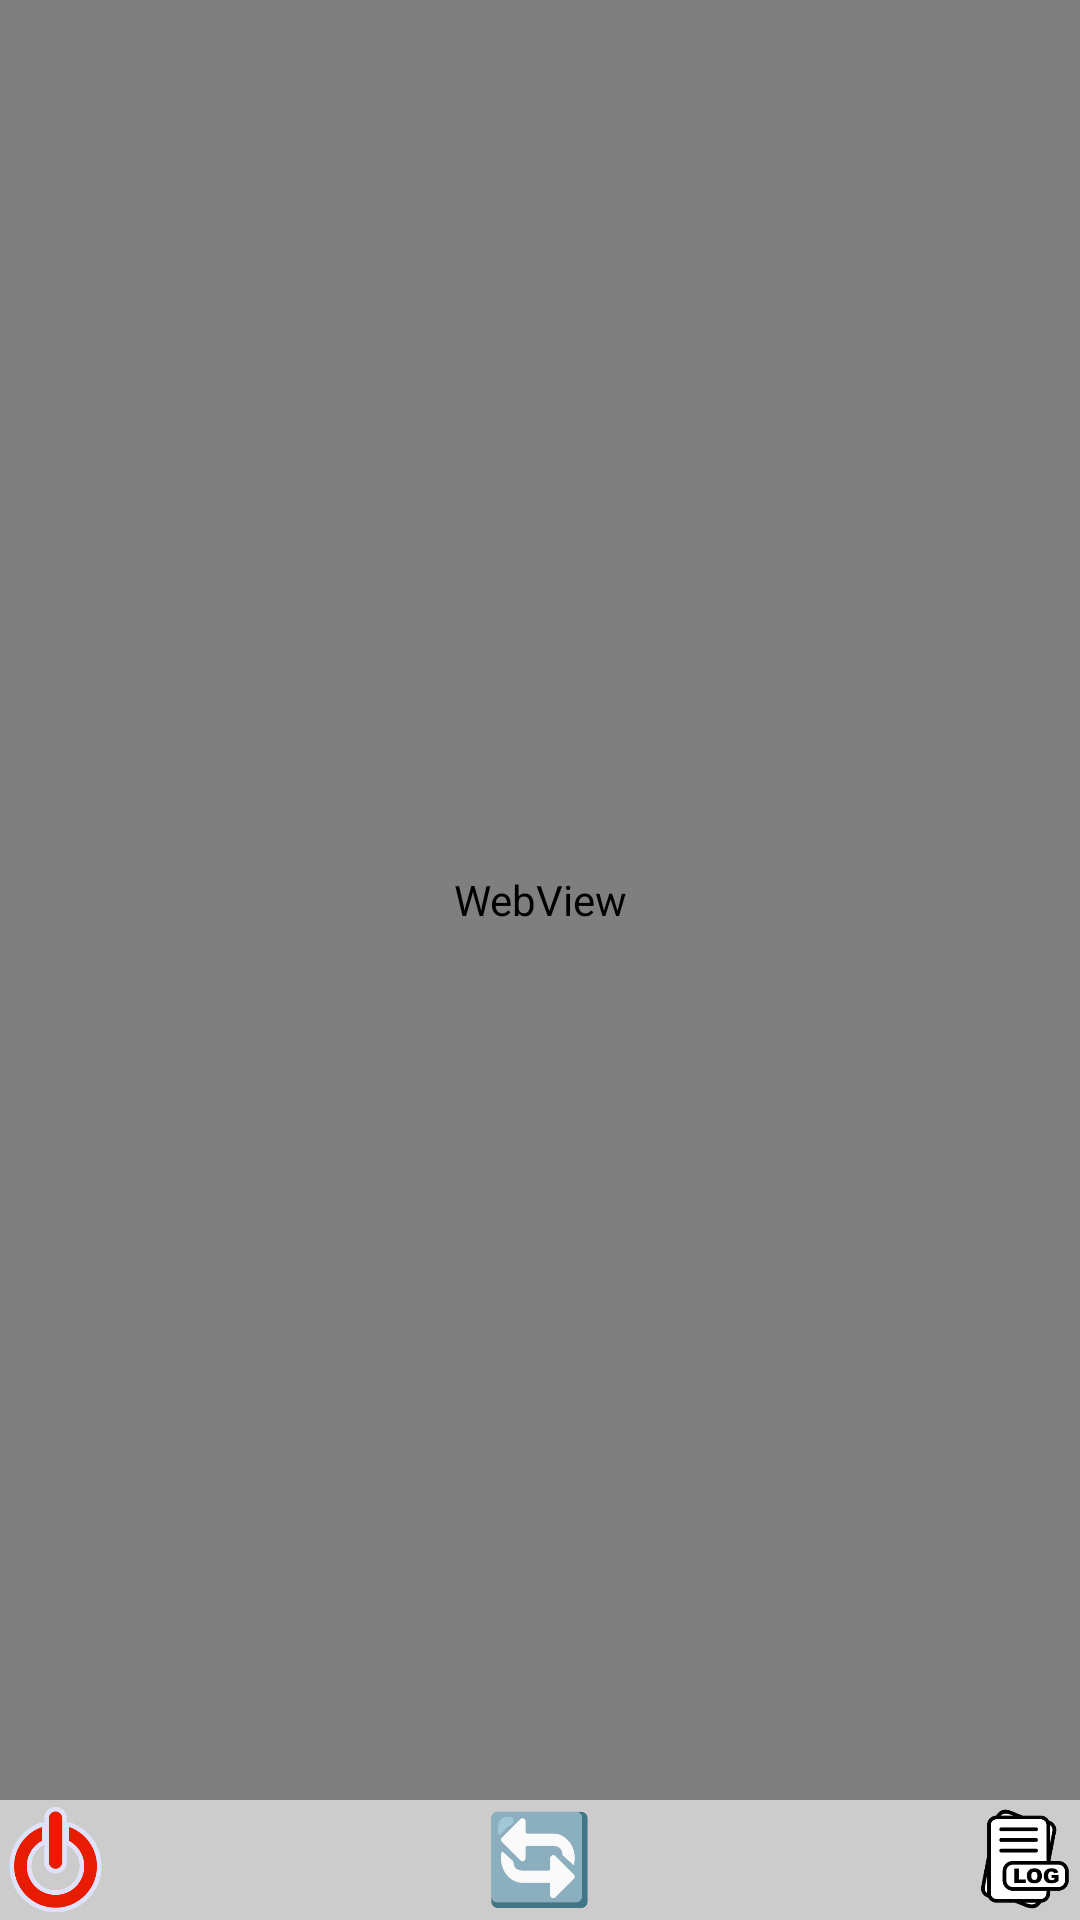

Icon click points for this 1080px×1920px phone screenshot, format [x,y]:
exit: [55,1859]
reload: [539,1860]
